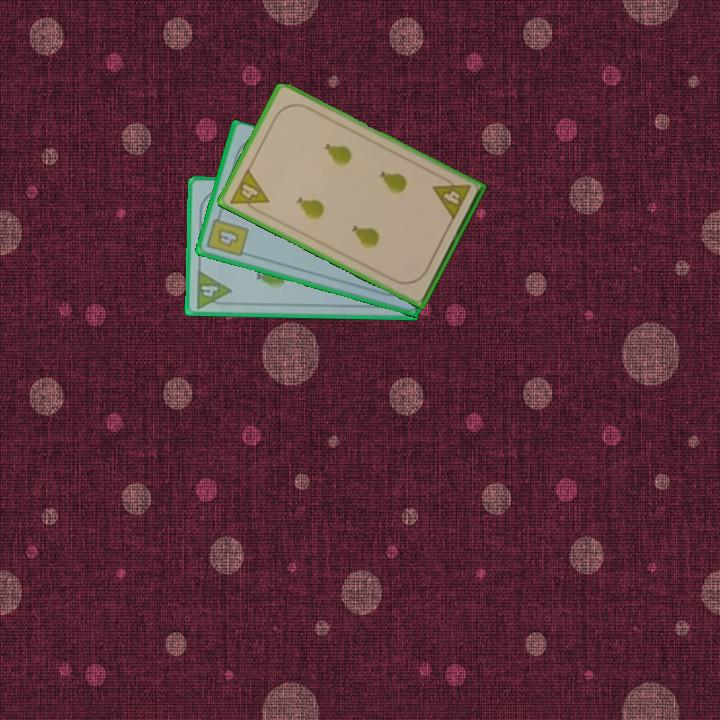4b: (203, 210, 252, 260)
4p: (226, 165, 272, 217), (429, 172, 473, 223), (193, 267, 233, 311)
